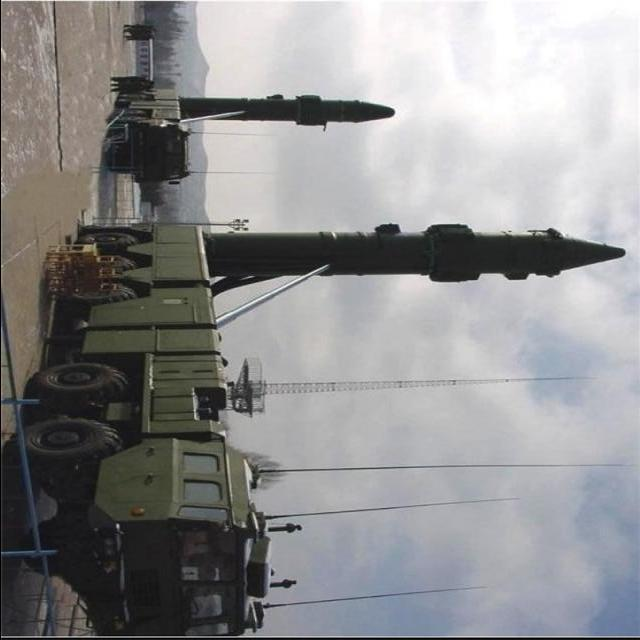missile: (190, 223, 627, 297), (143, 92, 404, 132)
